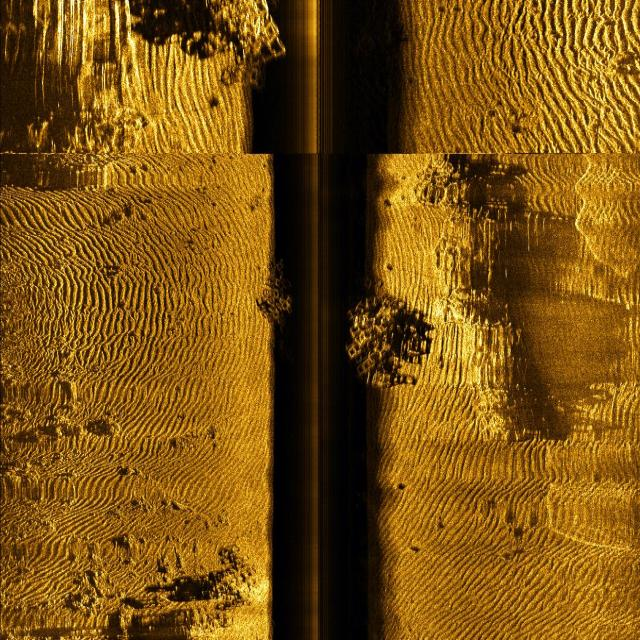artificial reef: (190, 0, 275, 84), (246, 227, 303, 336), (346, 281, 404, 383)
